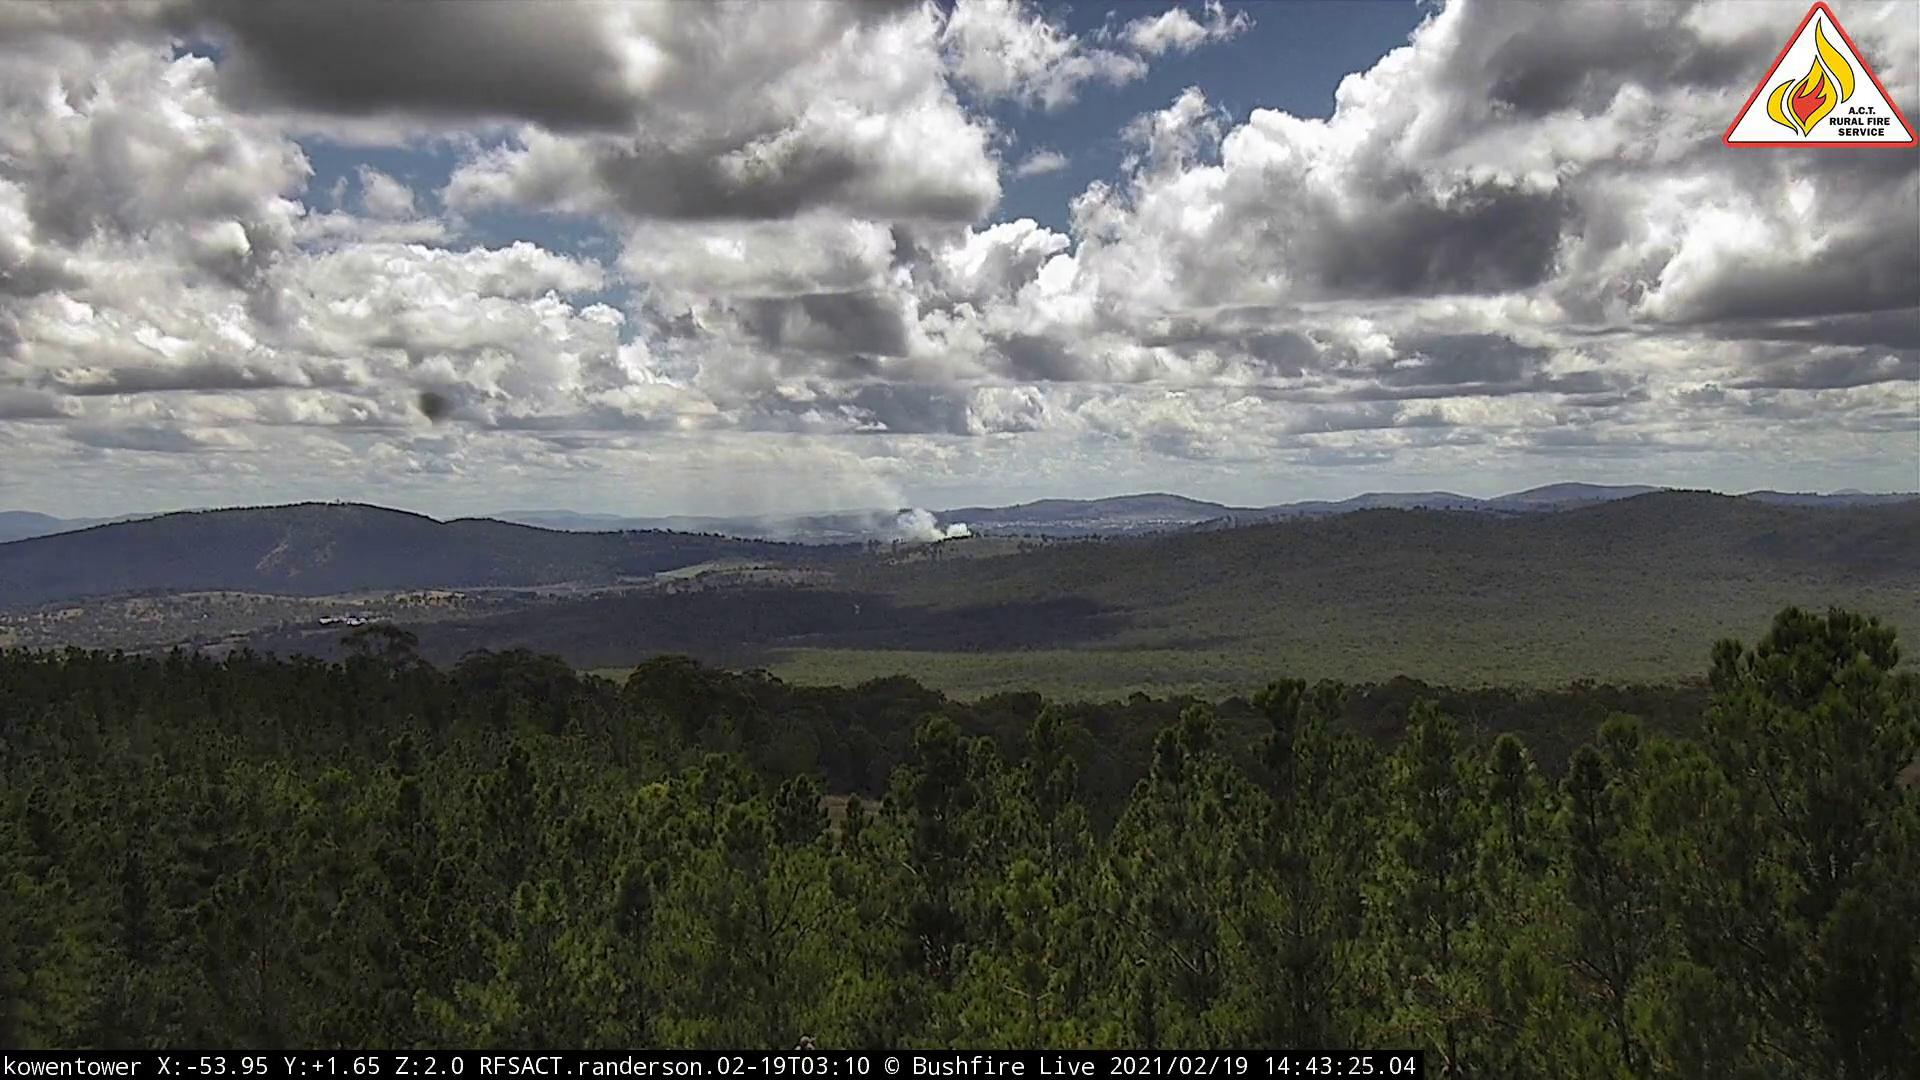instance_salient_object: (665, 423, 978, 551)
